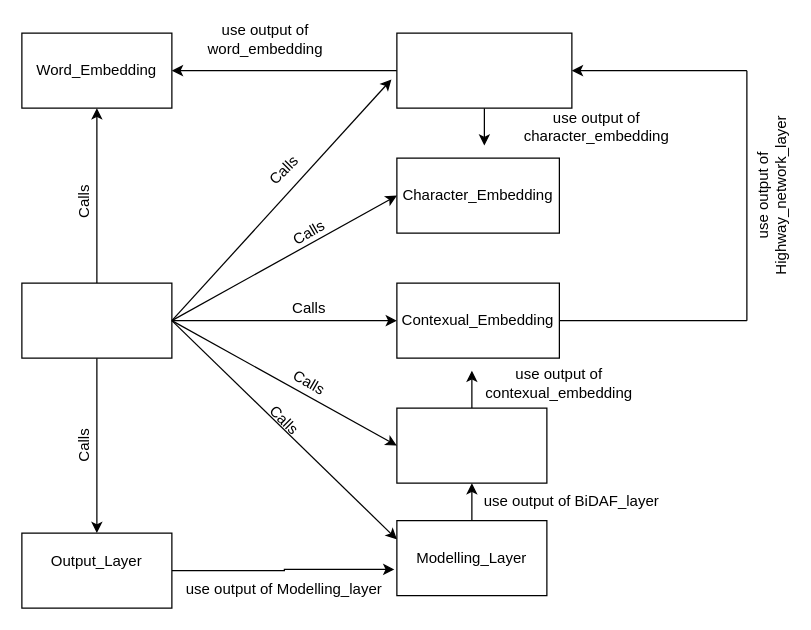
Some shapes in this 811 by 630 pixel diagram are drawn without their labels. The shapes that lost their labels are listed below. From the top down, each one's centre as x and y in pixels, then its label:
At [484,70]: "Highway_network_layer".
At [96,320]: "System".
At [471,445]: "BiDAF_Layer".
